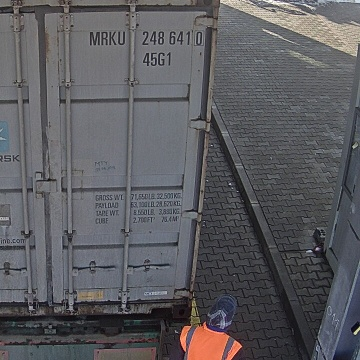serial_id: (90, 31, 203, 45)
